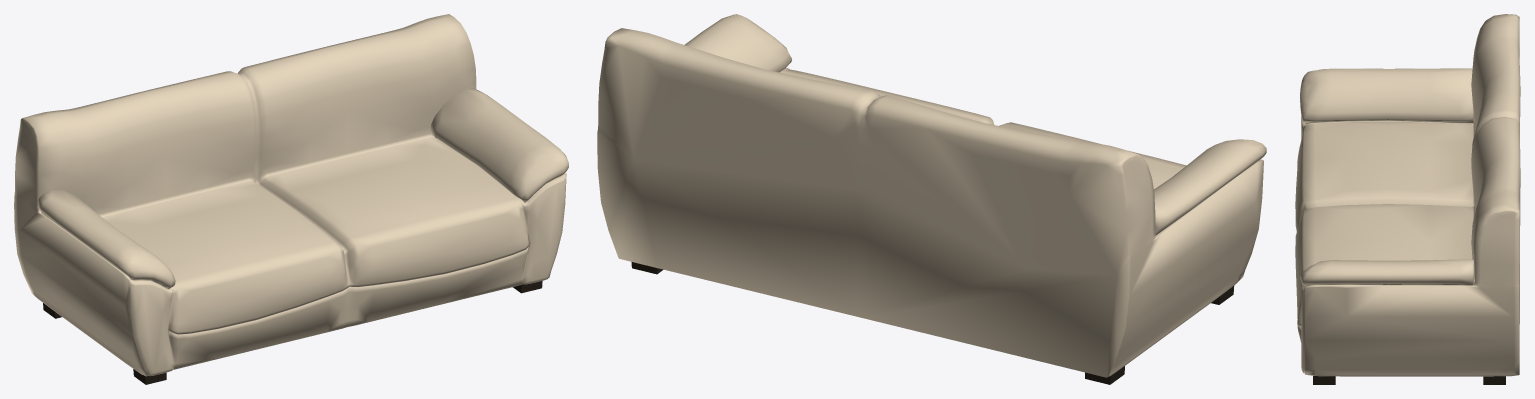
The model's file is IKEA-Vreta_3_Seat_Sofa_Mjuk_Ivory-3D.FBX.
3 renders of one model, left to right at view 1: azimuth 30°, elevation 25°; view 2: azimuth 150°, elevation 25°; view 3: azimuth 270°, elevation 25°, orthographic. The views are drawn at different scales.
Visible parts, largest first — view 1: Object01; view 2: Object01; view 3: Object01.
Boxes of the visible parts, <box> form: Object01: <box>14,14,568,384</box>; Object01: <box>597,14,1266,384</box>; Object01: <box>1295,14,1520,384</box>.
Bounding box in the file's own units: 2.18 × 0.9979 × 0.8948.
2 materials, 1 textured.
